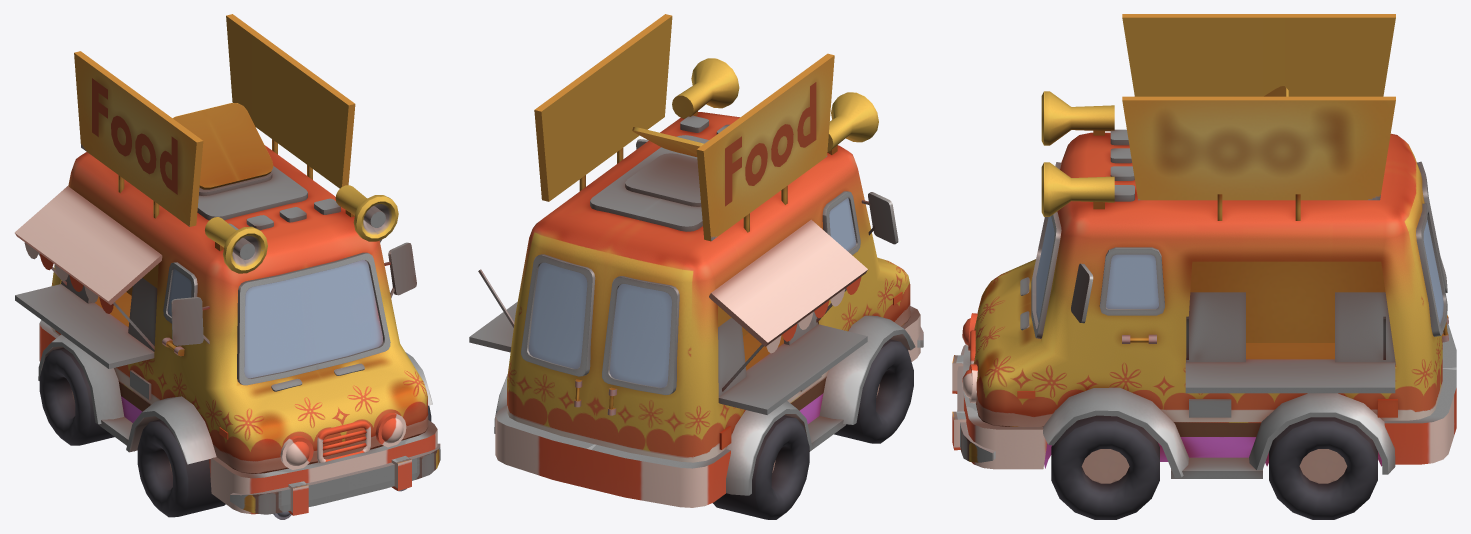
Rendered from food_truck_4.fbx.
The picture shows the model from 3 angles, left to right: view 1: azimuth 30°, elevation 25°; view 2: azimuth 150°, elevation 25°; view 3: azimuth 270°, elevation 25°; orthographic projection. The views are drawn at different scales.
Visible parts, largest first — view 1: Cube.225, Cube.211, Cube.267, Cube.266, Cube.268, Cube.235, Cube.215, Cube.219, Cylinder.144, Cylinder.139, Cylinder.143, Cube.228 (+15 smaller); view 2: Cube.225, Cube.223, Cube.267, Cube.266, Cube.235, Cube.268, Cube.215, Cylinder.143, Cylinder.139, Cylinder.144, Circle.069, Cube.218 (+10 smaller); view 3: Cube.225, Cube.267, Cube.266, Cylinder.144, Cylinder.143, Cube.217, Cube.235, Cube.215, Cylinder.139, Circle.069, Circle.070, Cube.221 (+10 smaller).
Boxes of the visible parts, x1=… form: Cube.225: x1=50, y1=145, x2=428, y2=473; Cube.211: x1=244, y1=260, x2=382, y2=378; Cube.267: x1=226, y1=14, x2=355, y2=188; Cube.266: x1=74, y1=51, x2=312, y2=226; Cube.268: x1=14, y1=186, x2=162, y2=304; Cube.235: x1=39, y1=320, x2=437, y2=514; Cube.215: x1=15, y1=284, x2=154, y2=368; Cube.219: x1=172, y1=103, x2=273, y2=189; Cylinder.144: x1=137, y1=405, x2=431, y2=517; Cylinder.139: x1=205, y1=185, x2=398, y2=273; Cylinder.143: x1=39, y1=347, x2=114, y2=445; Cube.228: x1=230, y1=443, x2=440, y2=514; Cube.225: x1=507, y1=112, x2=910, y2=462; Cube.223: x1=521, y1=254, x2=679, y2=395; Cube.267: x1=534, y1=14, x2=672, y2=201; Cube.266: x1=579, y1=53, x2=834, y2=241; Cube.235: x1=495, y1=306, x2=920, y2=507; Cube.268: x1=709, y1=219, x2=867, y2=346; Cube.215: x1=469, y1=302, x2=867, y2=414; Cylinder.143: x1=713, y1=415, x2=809, y2=519; Cylinder.139: x1=672, y1=58, x2=878, y2=154; Cylinder.144: x1=834, y1=339, x2=913, y2=443; Circle.069: x1=819, y1=315, x2=915, y2=424; Cube.218: x1=590, y1=135, x2=708, y2=231; Cube.225: x1=973, y1=132, x2=1442, y2=468; Cube.267: x1=1122, y1=96, x2=1395, y2=200; Cube.266: x1=1122, y1=14, x2=1395, y2=220; Cylinder.144: x1=1051, y1=415, x2=1159, y2=519; Cylinder.143: x1=1269, y1=417, x2=1377, y2=519; Cube.217: x1=1186, y1=292, x2=1395, y2=364; Cube.235: x1=963, y1=324, x2=1456, y2=469; Cube.215: x1=1185, y1=359, x2=1395, y2=393; Cylinder.139: x1=1041, y1=91, x2=1114, y2=216; Circle.069: x1=1043, y1=387, x2=1188, y2=477; Circle.070: x1=1249, y1=393, x2=1395, y2=474; Cube.221: x1=1099, y1=247, x2=1164, y2=315.
Size of the model in its own units: 2.59 by 3.15 by 3.63.
